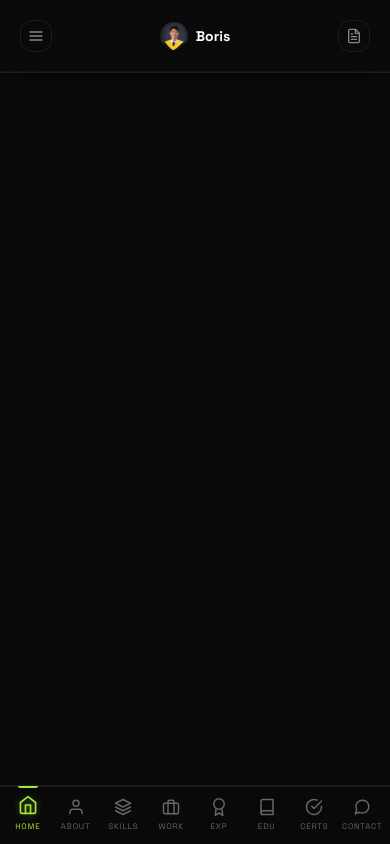
Test case: Header › opens the mobile dropdown when hamburger is clicked
Click the button named "open menu". click: point(36, 36)
box: [20, 20, 52, 52]
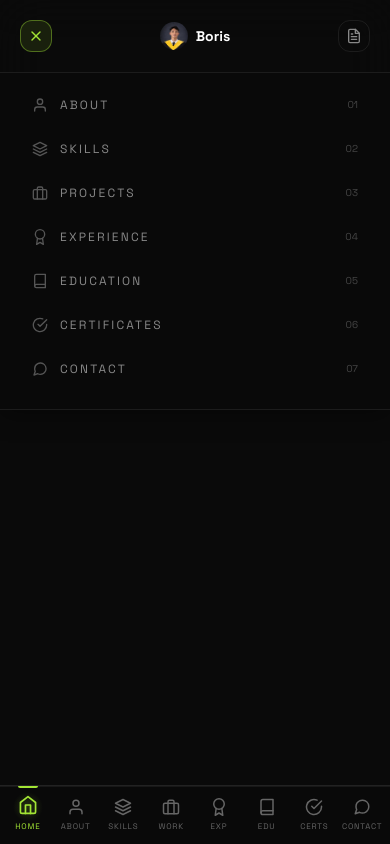
Now the button named "close menu" is shown, box [20, 20, 52, 52]
